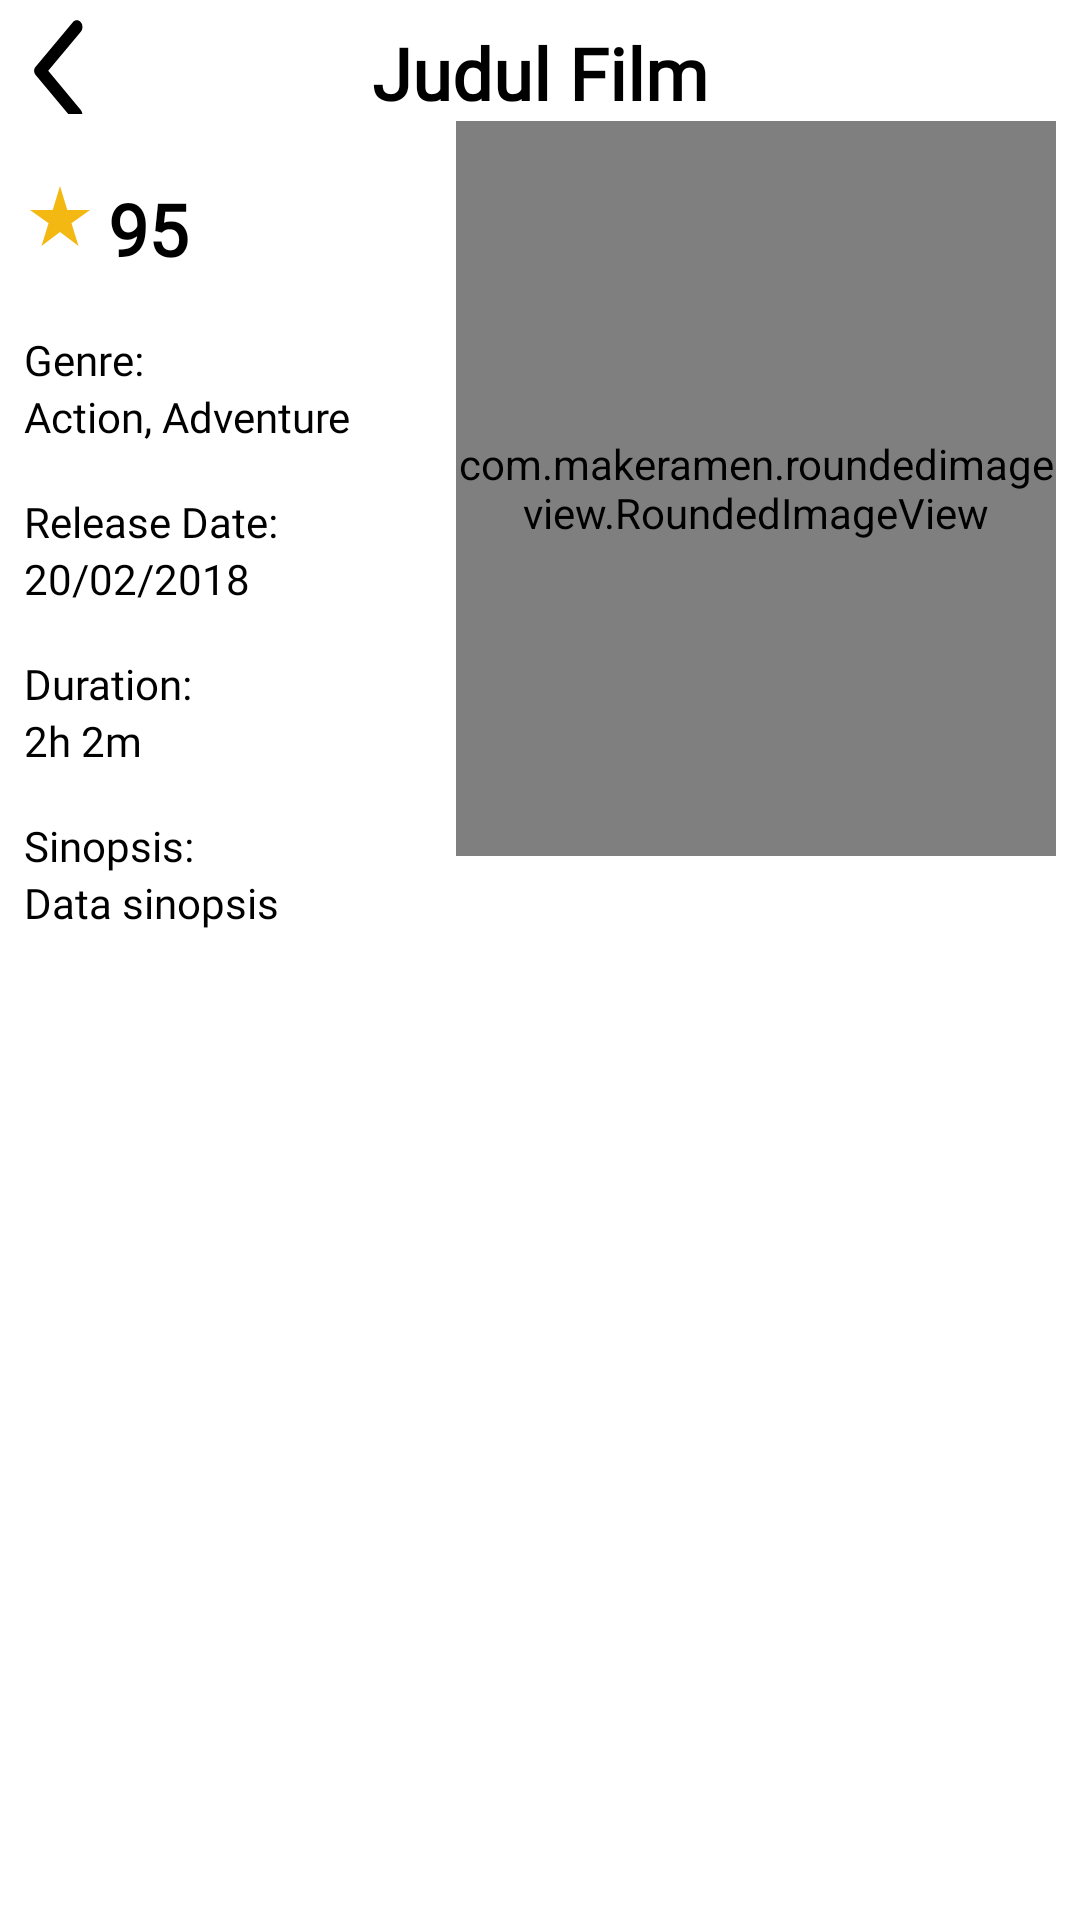

Point at icon controls on the screen. Image size 1080*1920, points as (x,y).
backbutton: (58,67)
star rate: (60,216)
